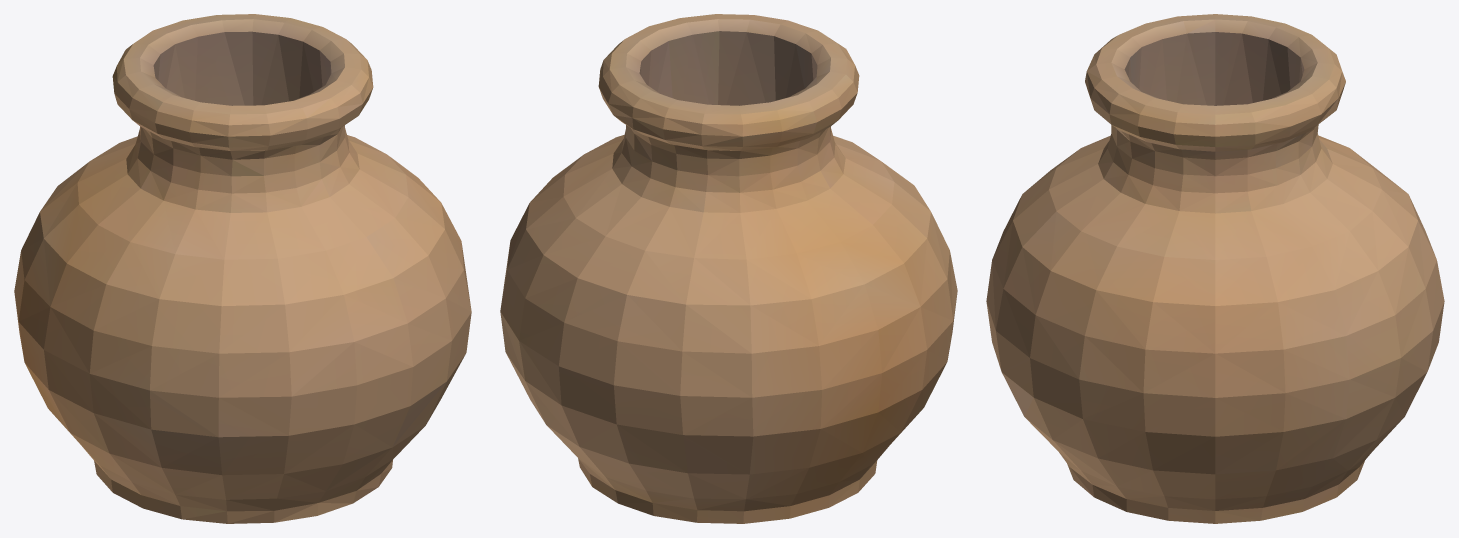
File: terracotta.glb
The picture shows the model from 3 angles, left to right: view 1: azimuth 30°, elevation 25°; view 2: azimuth 150°, elevation 25°; view 3: azimuth 270°, elevation 25°; orthographic projection.
Visible parts, largest first — view 1: geometry_0; view 2: geometry_0; view 3: geometry_0.
Part boxes in pixels (x1,y1,x2,y2): geometry_0: (14,14,471,523); geometry_0: (500,14,957,523); geometry_0: (986,14,1444,523).
Bounding box in the file's own units: 0.1182 × 0.1133 × 0.1182.
